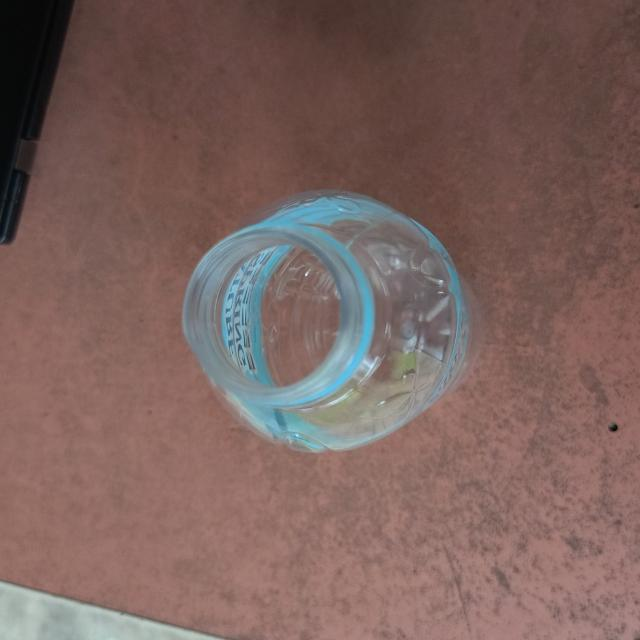Anorganik: (160, 173, 493, 463)
